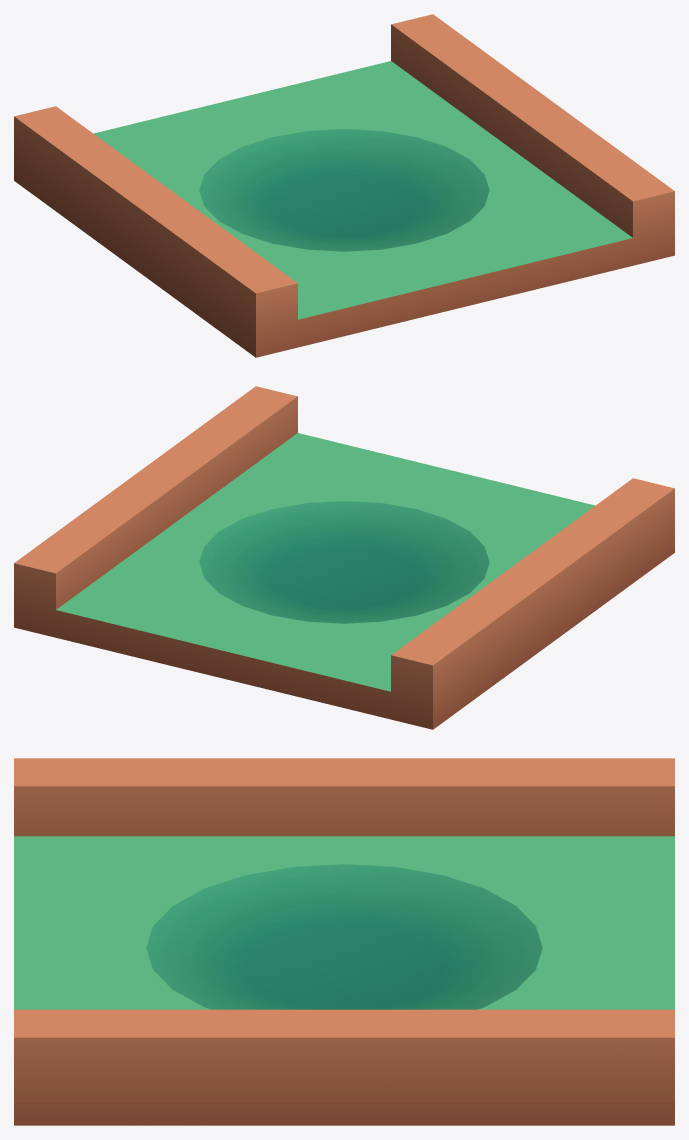
Rendered from bump-down-walls.glb.
3 views of the same model, one above another, from view 1: azimuth 30°, elevation 25°; view 2: azimuth 150°, elevation 25°; view 3: azimuth 270°, elevation 25° (orthographic). The views are drawn at different scales.
Visible parts, largest first — view 1: bump-down-walls; view 2: bump-down-walls; view 3: bump-down-walls.
Part boxes in pixels (x1,y1,x2,y2): bump-down-walls: (14, 14, 674, 357); bump-down-walls: (14, 386, 674, 729); bump-down-walls: (14, 758, 674, 1125).
Size of the model in its own units: 0.9999 by 0.1467 by 0.9999.
1 material, 1 textured.
